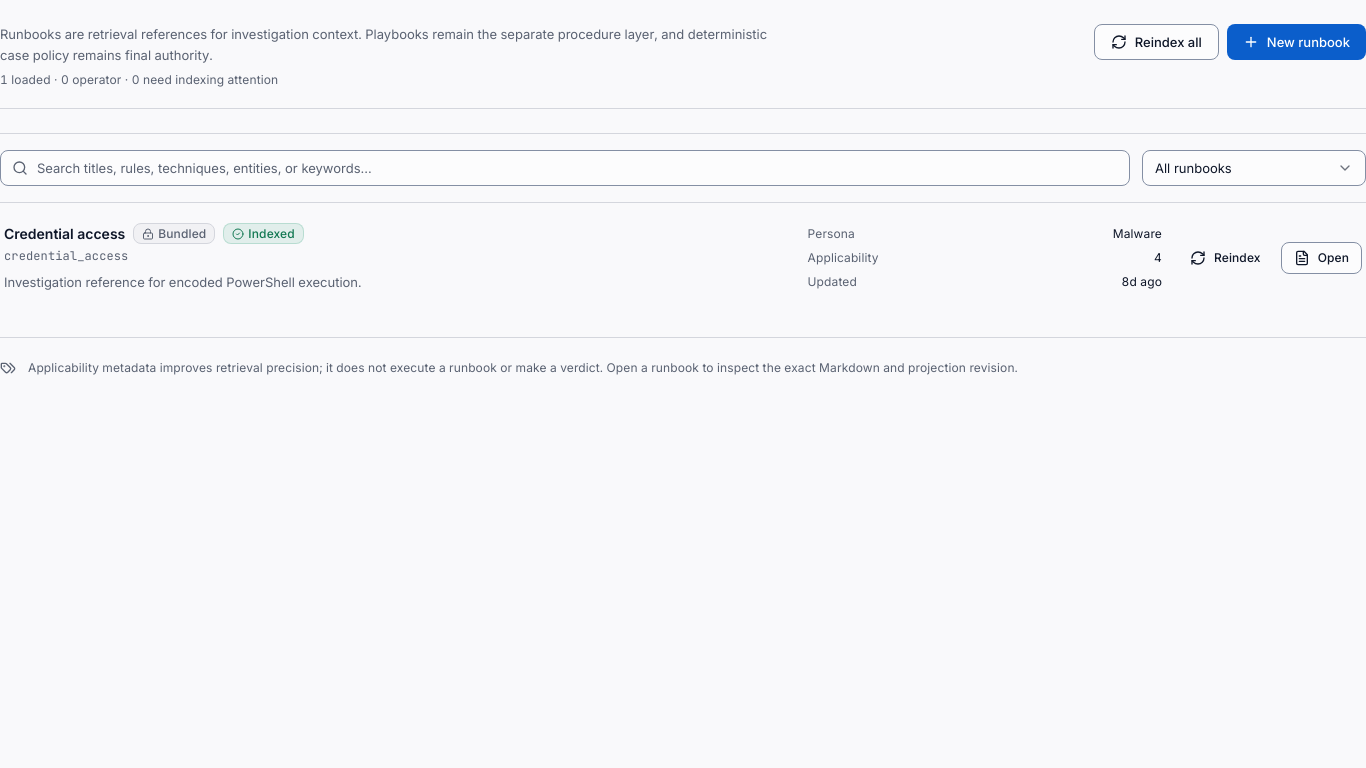
Test: Intelligence Runbooks management › opens bundled Markdown while keeping immutable controls hidden
The image size is (1366, 768).
Expected: the text "Credential access" is shown, [4, 225, 125, 242]
Expected: the text "Bundled" is shown, [133, 223, 215, 244]
Click the button "Open".
click(1321, 258)  # box [1281, 242, 1362, 274]
(page scrolled)
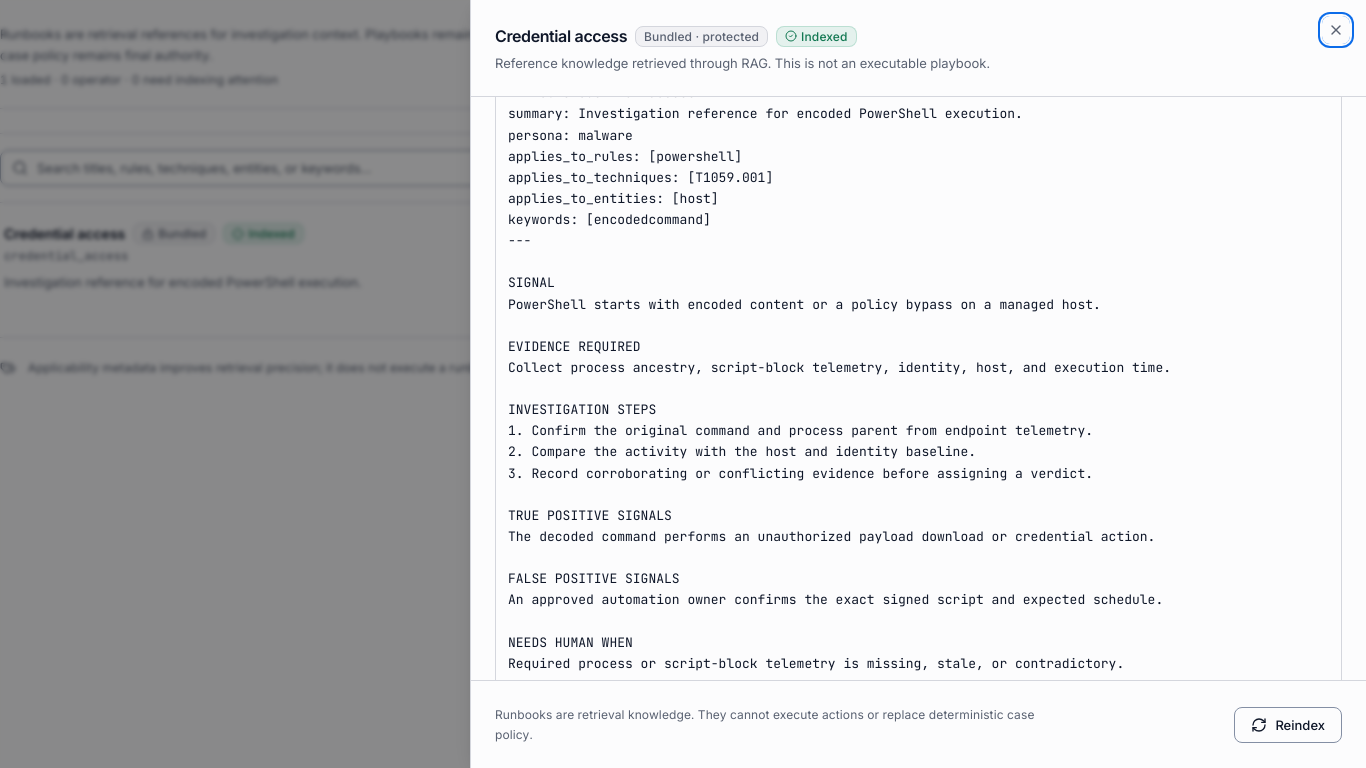
Result: the text "Bundled · protected" is shown at [635, 26, 768, 46]
Result: the text "id: credential_access" is shown at [508, 97, 1171, 680]
